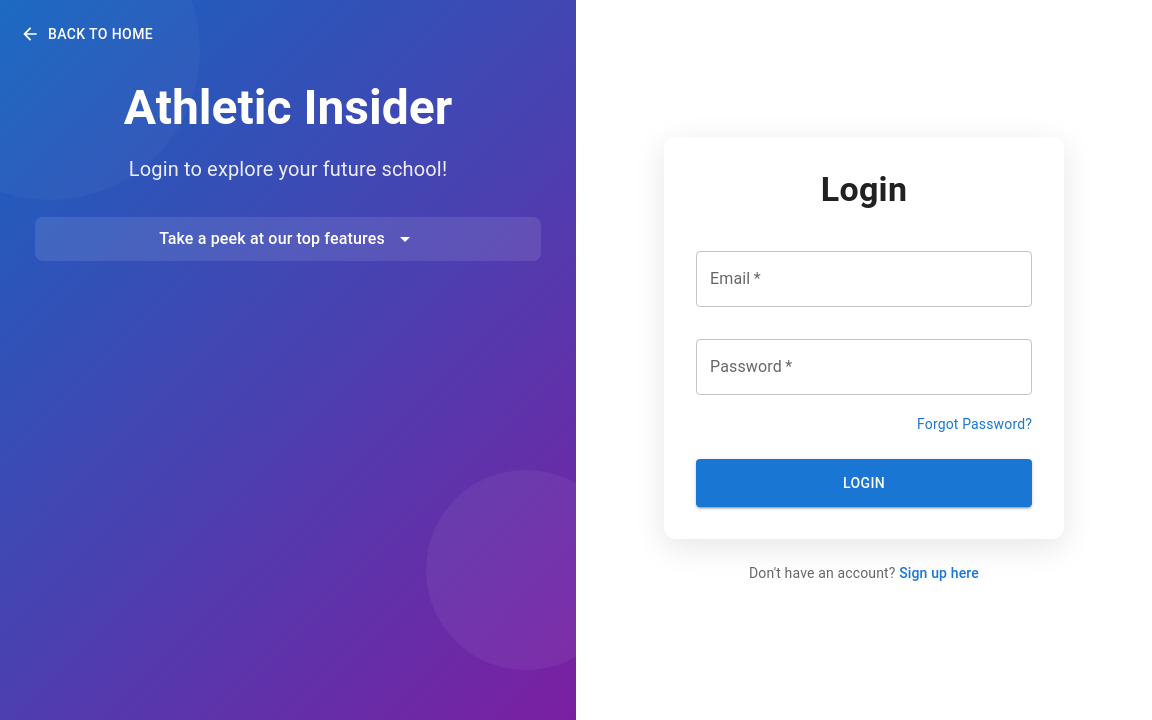
Test case: Login Component › shows error message on failed login
Type "wrong@example.com" into the field labelled "Email *".
click(864, 279); type("wrong@example.com")  # box [696,251,1032,307]
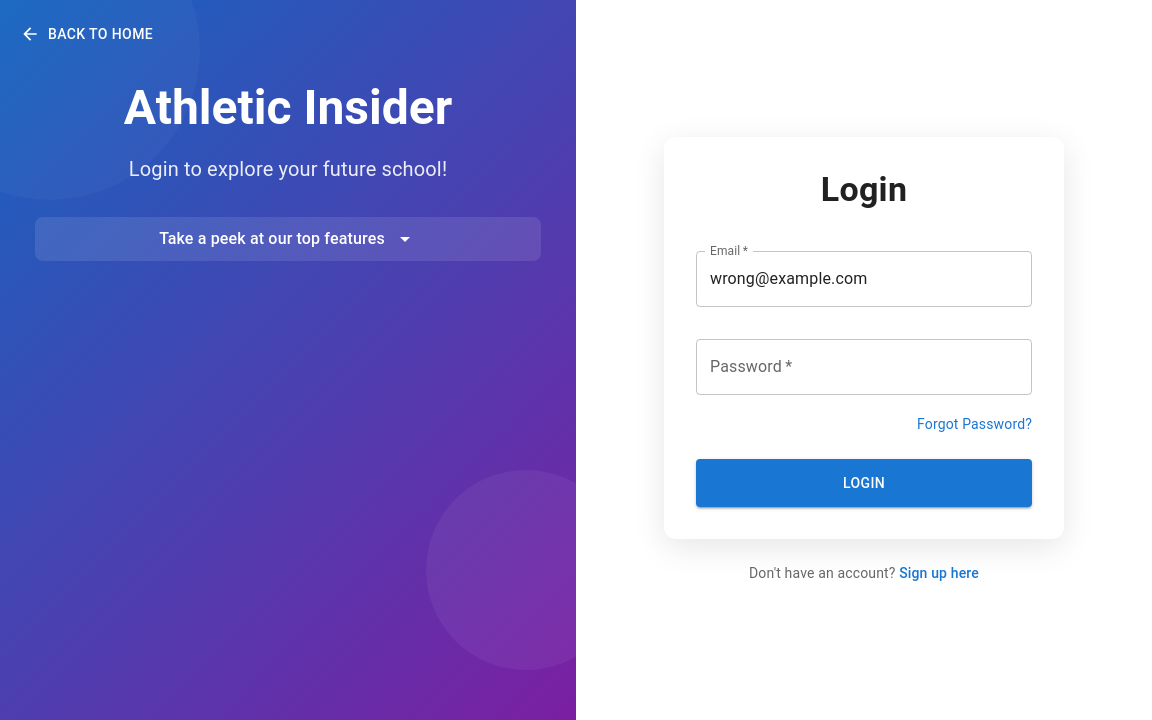
Type "wrongpassword" into the password field labelled "Password *".
click(864, 367); type("wrongpassword")  # box [696,339,1032,395]
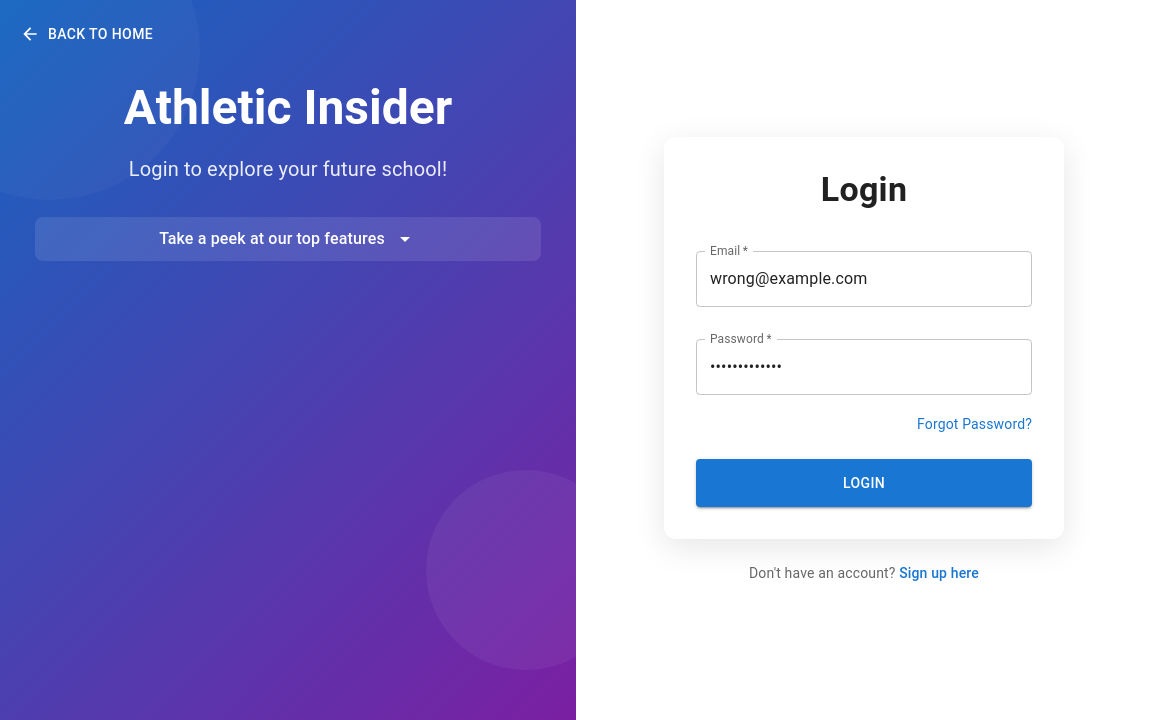
Click the button "Login".
click(864, 483)  # box [696,459,1032,507]
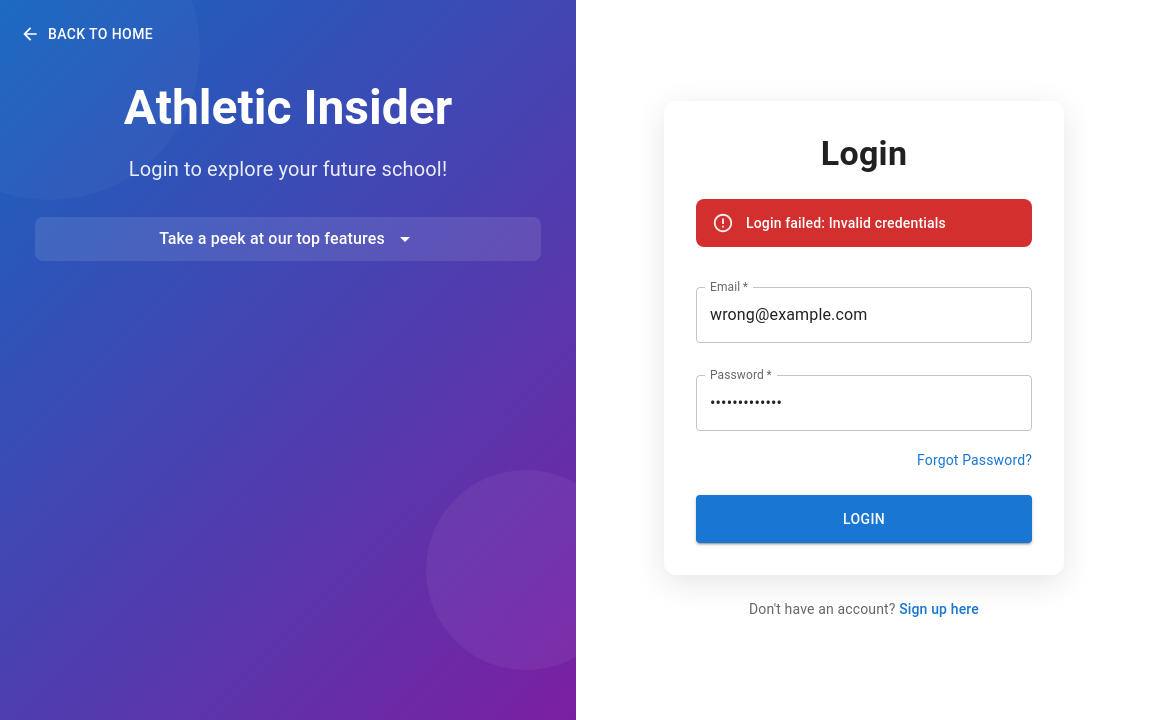
Now the text "Login failed: Invalid credentials" is shown, box [746,215,946,231]
